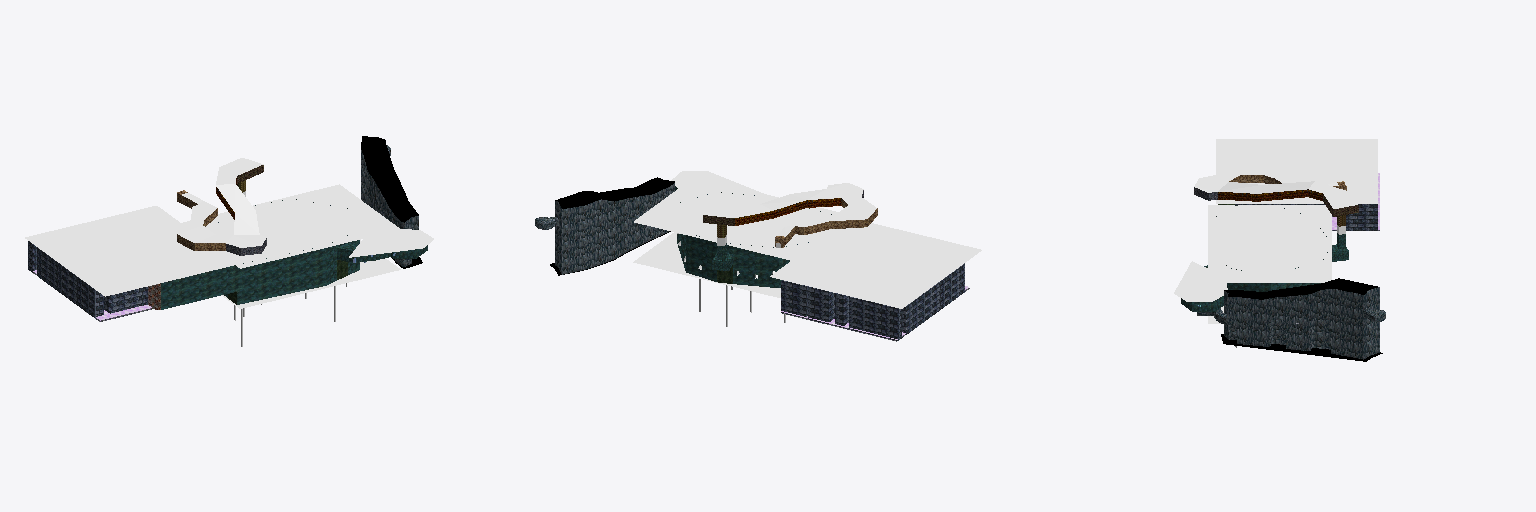
The picture shows the model from 3 angles: view 1: azimuth 30°, elevation 25°; view 2: azimuth 150°, elevation 25°; view 3: azimuth 270°, elevation 25°; orthographic projection.
Parts seen in each view (by area): view 1: Mesh_ModelUpdated; view 2: Mesh_ModelUpdated; view 3: Mesh_ModelUpdated.
Part boxes in pixels (x1,y1,x2,y2): Mesh_ModelUpdated: (25,136,433,346); Mesh_ModelUpdated: (535,171,981,341); Mesh_ModelUpdated: (1174,139,1385,361).
Bounding box in the file's own units: 9.07 × 3.01 × 4.57.
Materials: 29 (24 with a texture image).